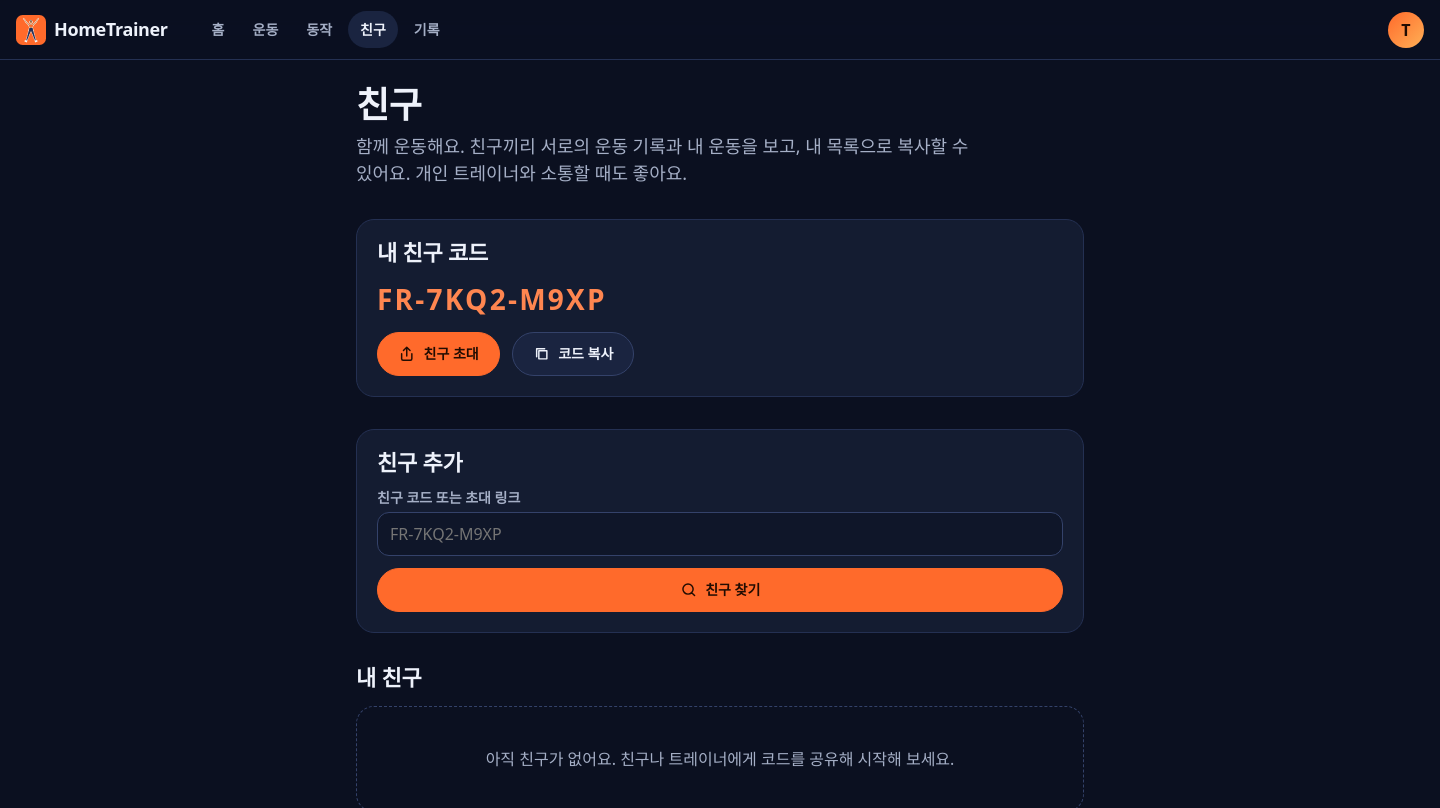
friends in Korean › shows the friends page and lookup errors in Korean
Expected: the text "FR-7KQ2-M9XP" is shown, [377, 280, 607, 318]
Expected: the heading "내 친구 코드" is shown, [377, 237, 488, 267]
Type "nope" into the field labelled "친구 코드 또는 초대 링크" at {"x": 720, "y": 534}, box [377, 512, 1063, 556]
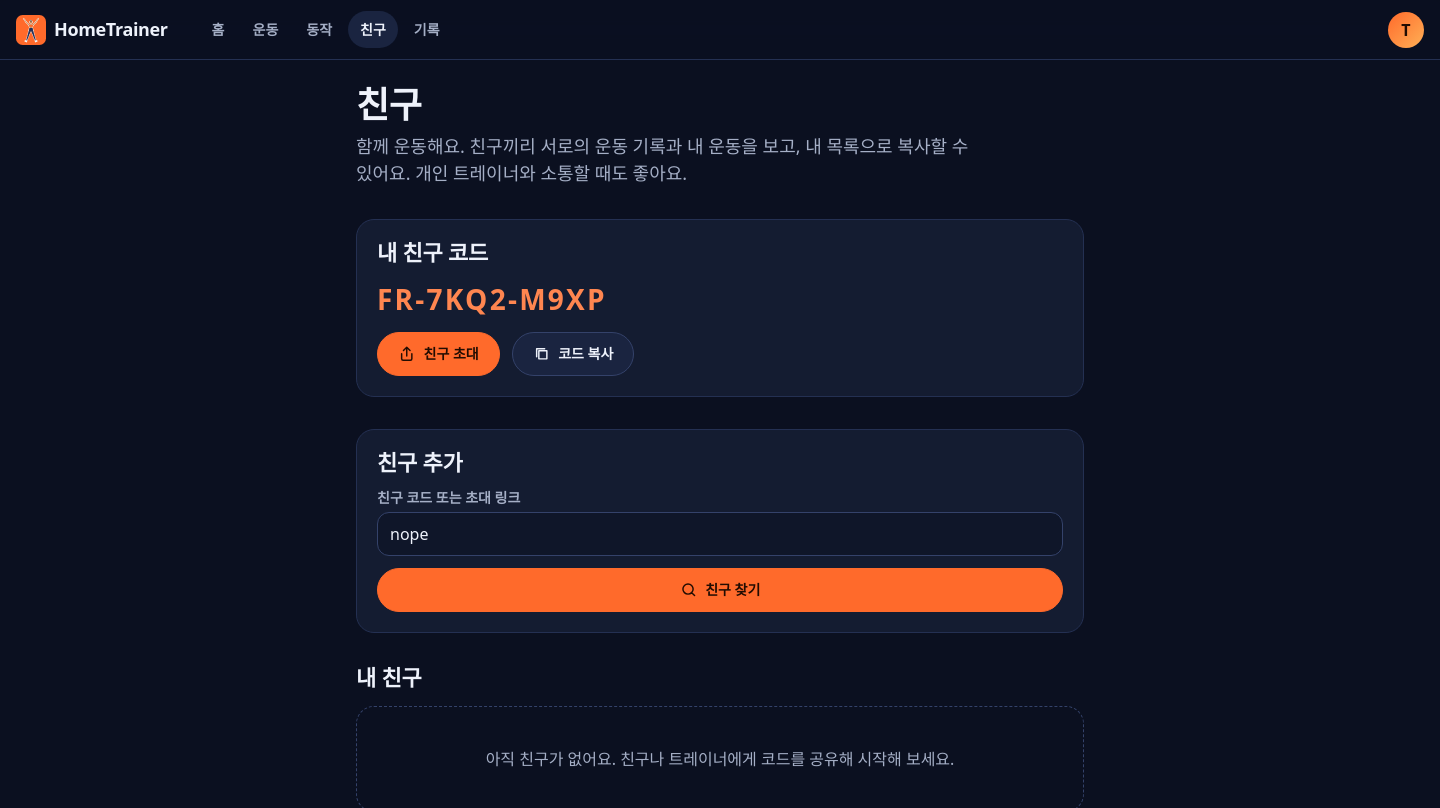
Click the button "친구 찾기" at {"x": 720, "y": 590}, box [377, 568, 1063, 612]
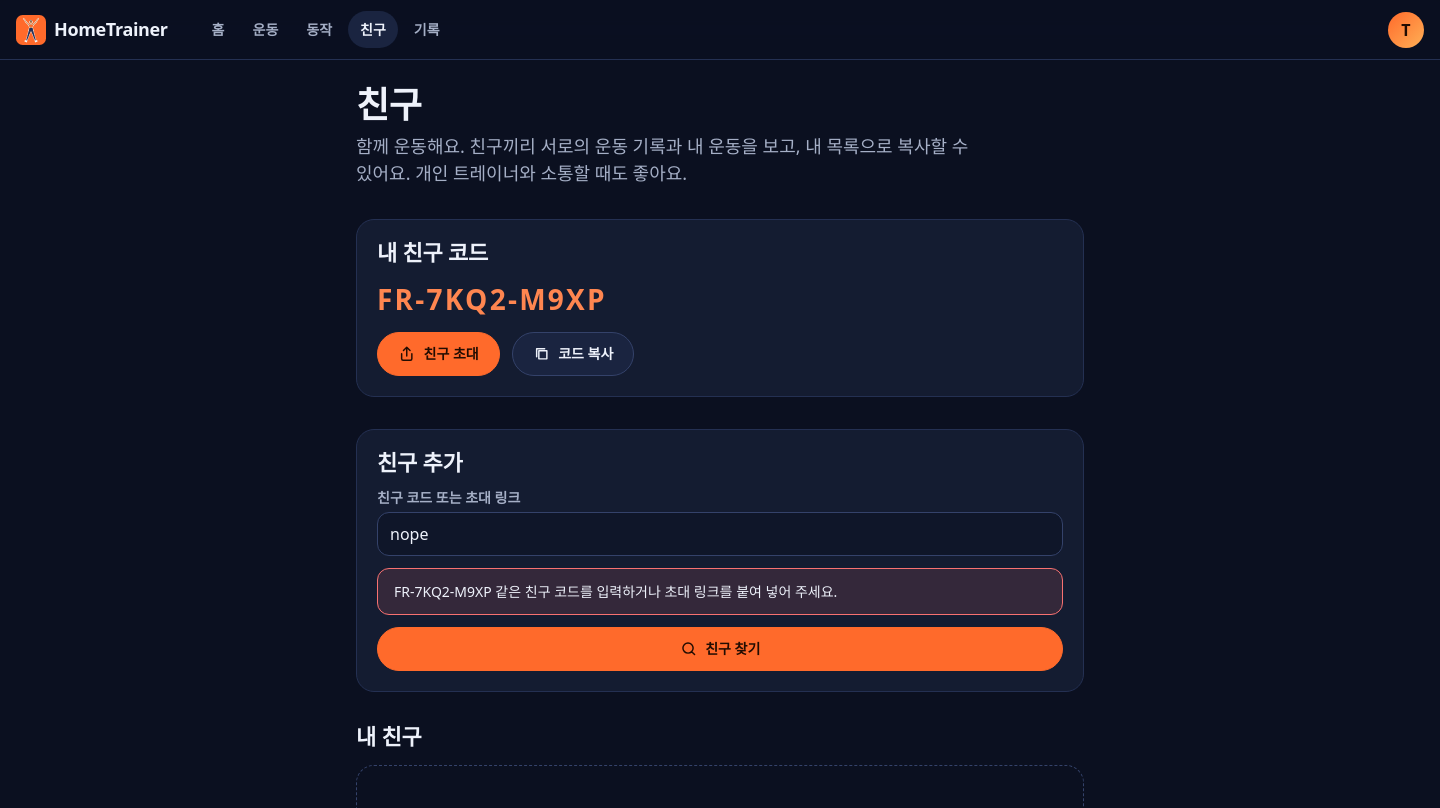
Expected: the message shows "FR-7KQ2-M9XP 같은 친구 코드를 입력하거나", [394, 582, 837, 601]
